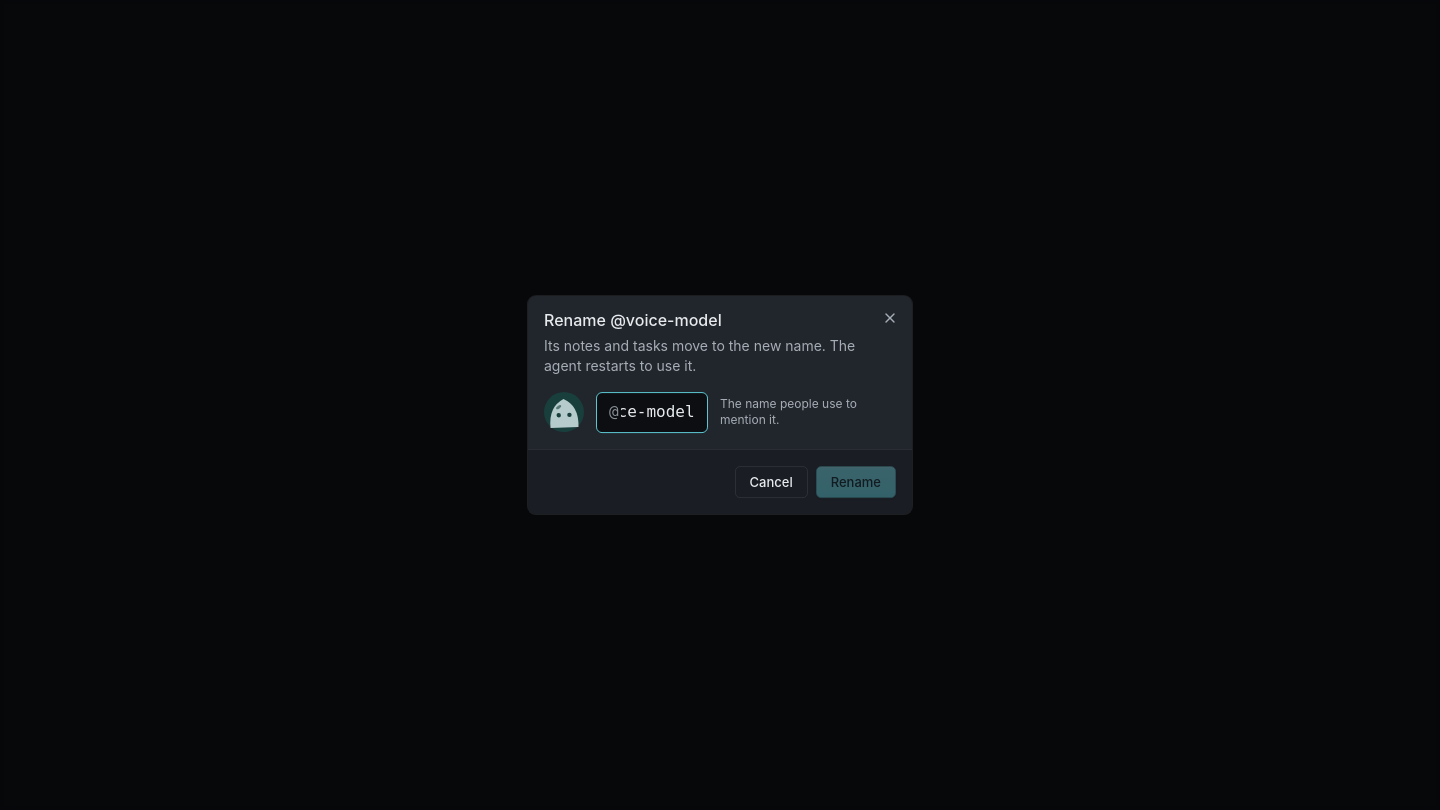
it: <RenameAgentDialog /> › says when it was renamed but couldn't restart
Replace the text in the field named "handle" with "docs-writer" at (657, 412), box [619,393,695,432]
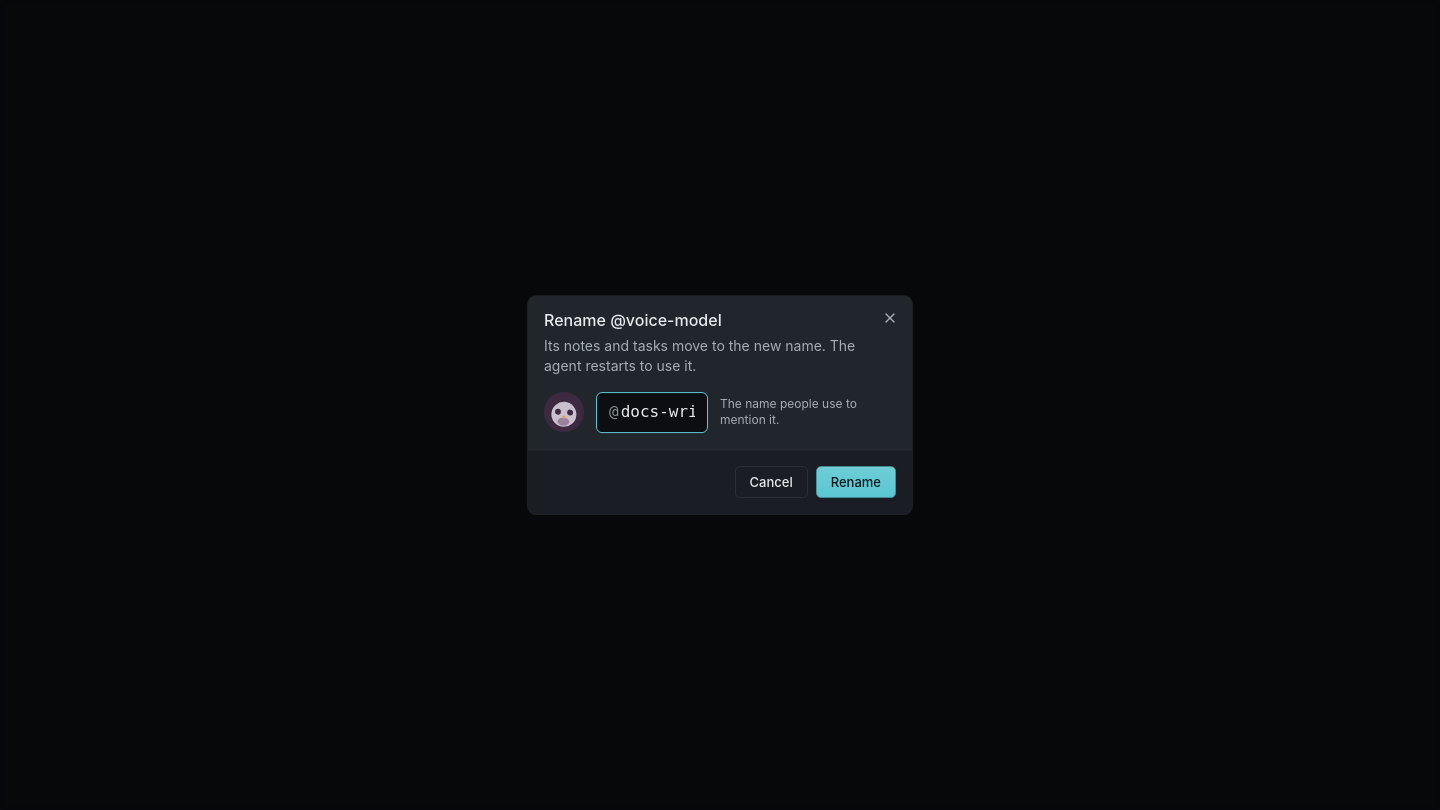
Click the button "Rename" at (856, 482), box [816,466,896,498]
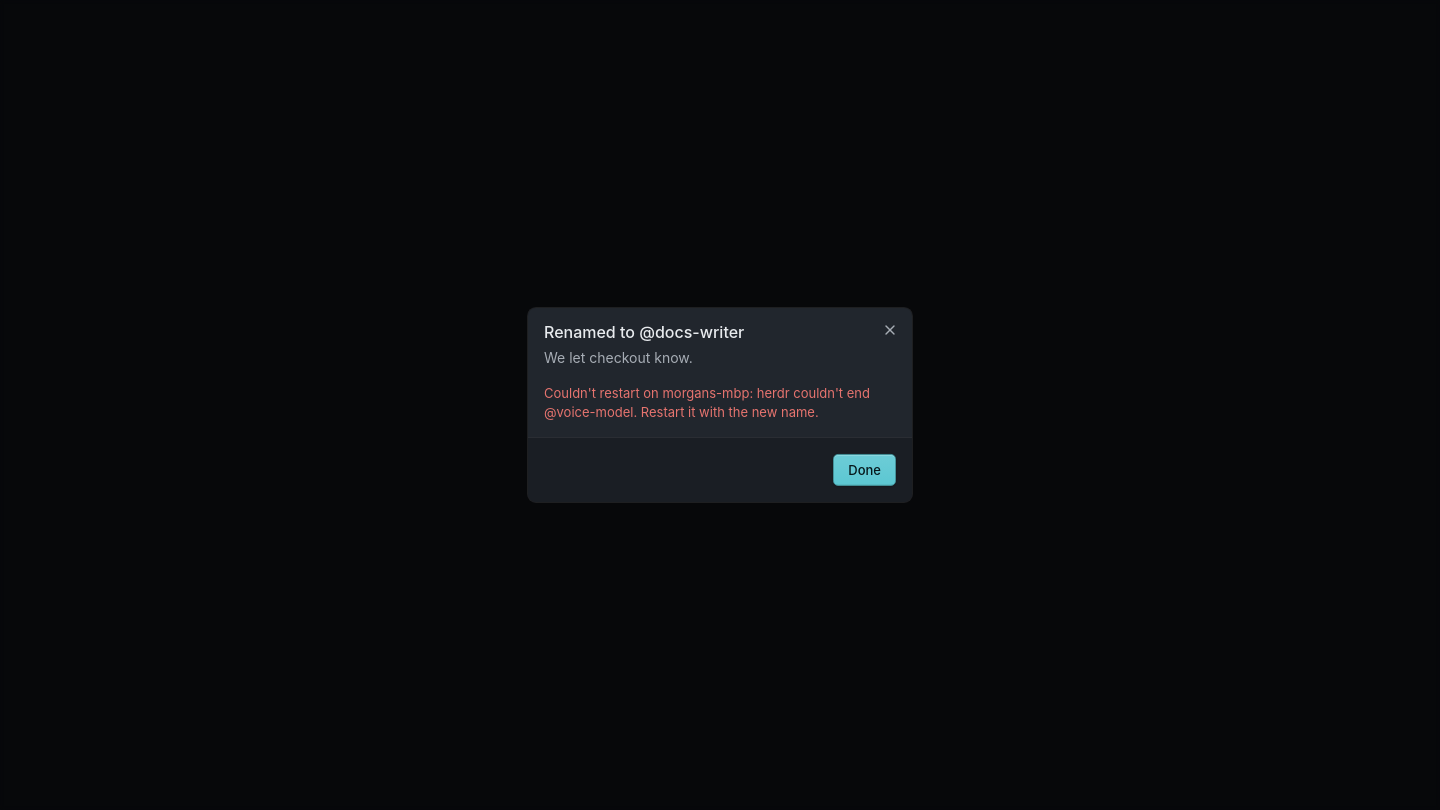
Expected: the heading "Renamed to @docs-writer" is shown, [544,322,744,342]
Expected: the message shows "Couldn't restart on morgans-mbp: herdr couldn't end @voice-model. Restart it with the new name.", [544,385,870,420]
